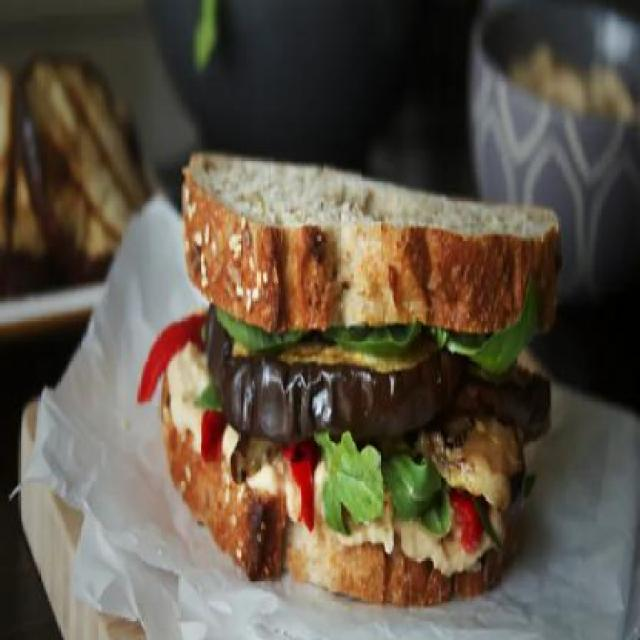beet salad: (206, 401, 486, 542)
eggplant: (201, 302, 547, 447)
hummus: (186, 434, 512, 571)
